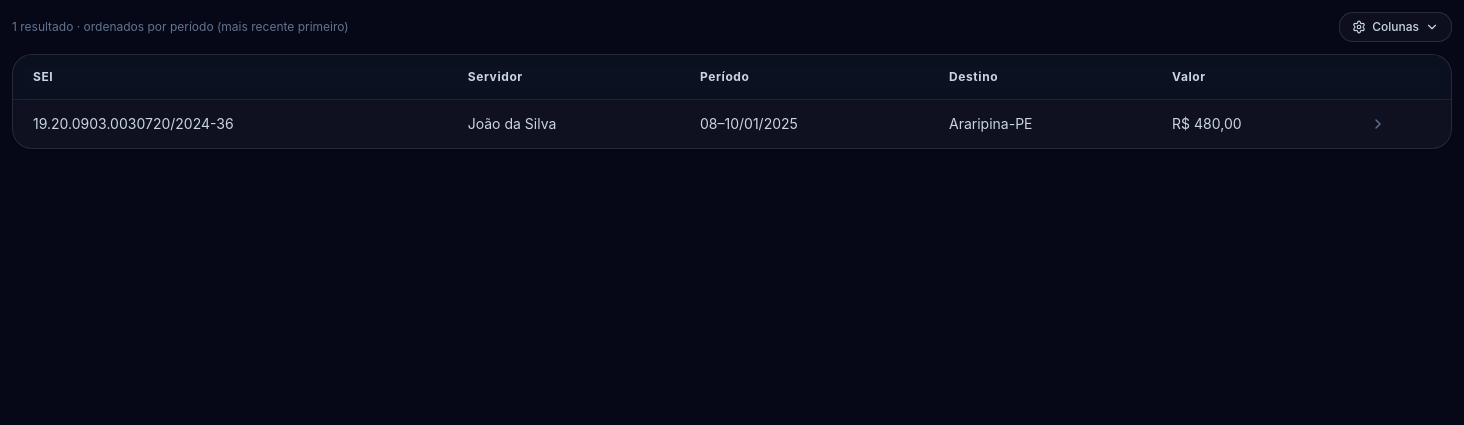
Test: TabelaDiarias › colunas opcionais (Sprint 19.5.7) › célula vazia é destacada (nunca em vermelho) quando a coluna Motivo está ativa e o motivo está em branco
The width and height of the screenshot is (1464, 425).
Click the button "Colunas".
click(1396, 27)  # box [1339,12,1452,42]
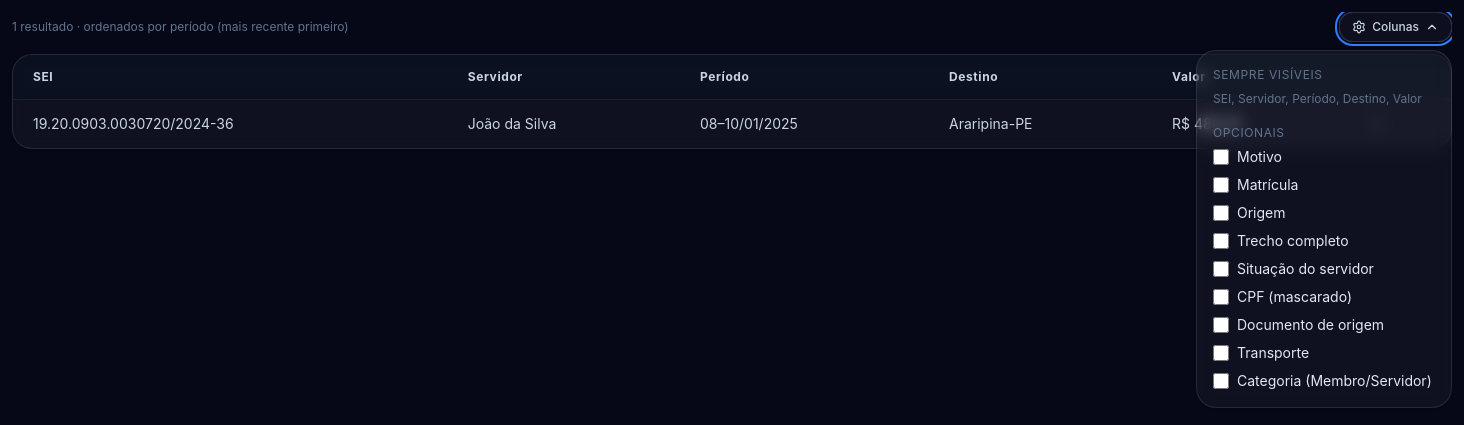
Click the checkbox labelled "Motivo".
click(1221, 156)  # box [1213,148,1229,164]
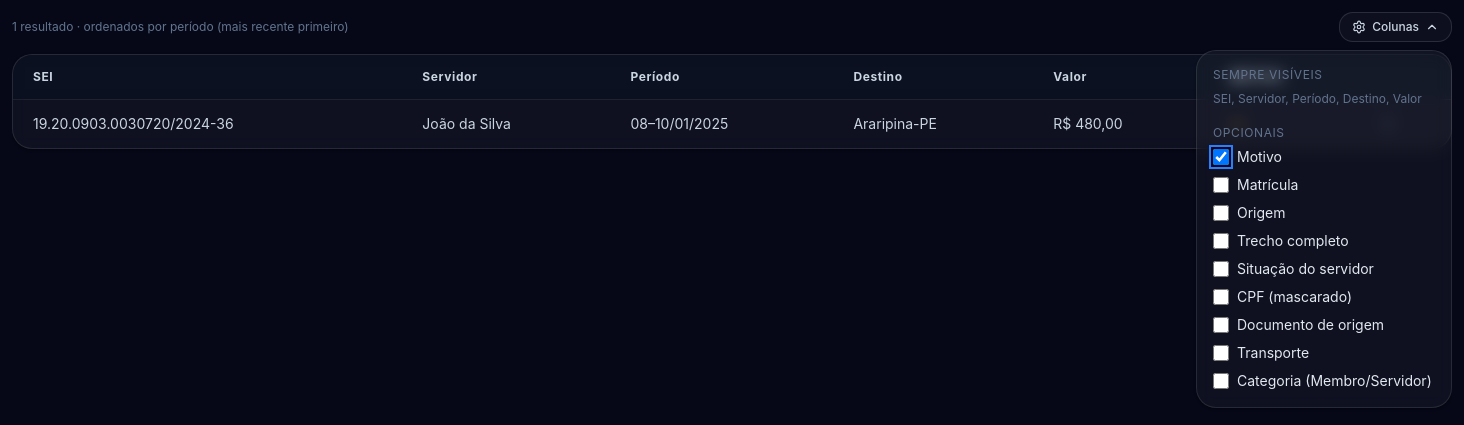
Check: the text "—" is shown, box [1230,115,1244,132]
